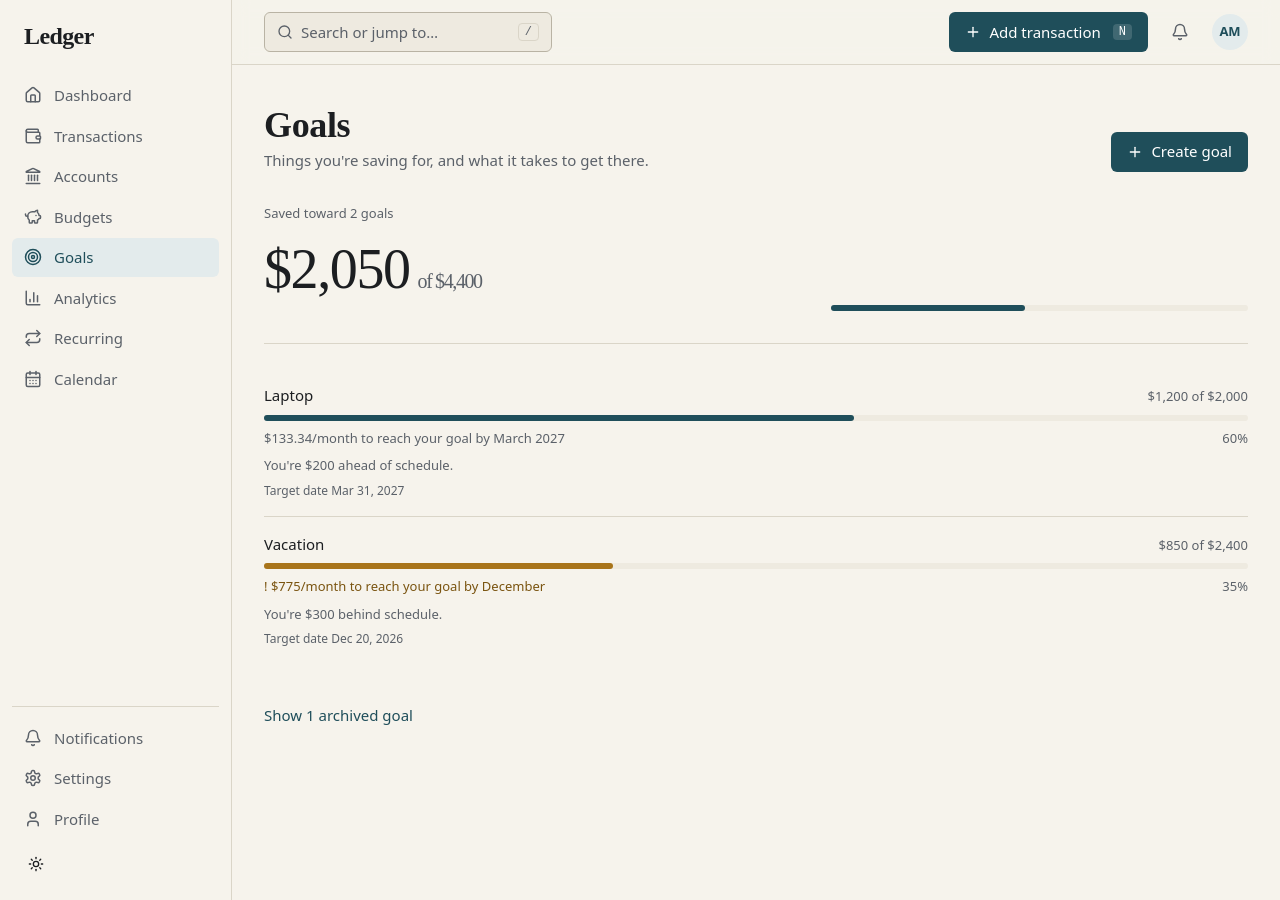
Test case: goals page › summarises the active goals and tucks archived ones away
expect the text "Saved toward 2 goals" is shown: met, box left=264, top=204, right=394, bottom=222
expect the text "$2,050" is shown: met, box left=264, top=238, right=410, bottom=300
Click the button "Show 1 archived goal" at (338, 715), box left=264, top=704, right=413, bottom=726
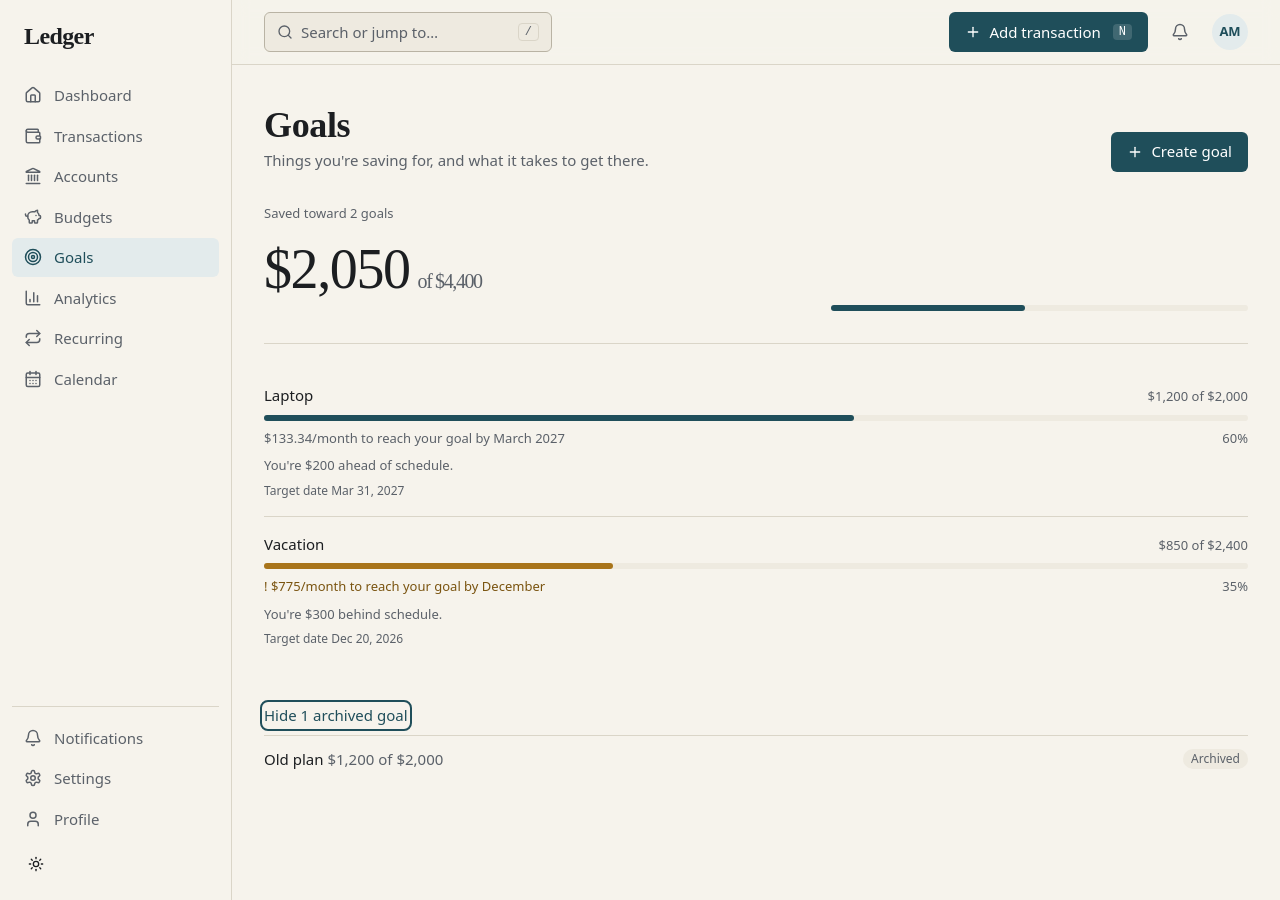
expect the button with aria-label "Open Old plan goal" is shown: met, box left=264, top=748, right=1171, bottom=770
